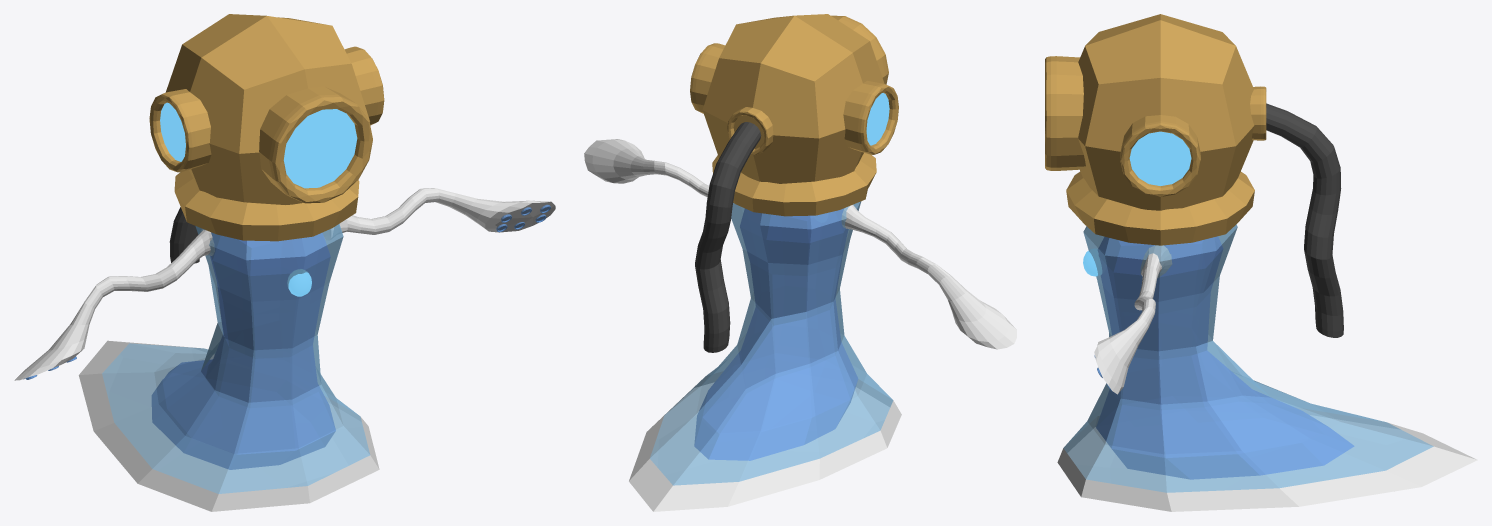
The model's file is water golem.fbx.
The picture shows the model from 3 angles, left to right: view 1: azimuth 30°, elevation 25°; view 2: azimuth 150°, elevation 25°; view 3: azimuth 270°, elevation 25°; orthographic projection. The views are drawn at different scales.
Parts seen in each view (by area): view 1: Body1, Body2, Cube, Cylinder.001, Cylinder.005, Cylinder.008, Cylinder.021, Cylinder.004, Cylinder.002, Cylinder.006; view 2: Body1, Body2, Cube, Cylinder.006, Cylinder.005, Cylinder.021, Cylinder.004, Cylinder.008, Cylinder.002, Cylinder.003, Cylinder.001; view 3: Body1, Body2, Cube, Cylinder.005, Cylinder.006, Cylinder.002, Cylinder.001, Cylinder.008, Cylinder.003.
Part boxes in pixels (x1,y1,x2,y2): Body1: [78, 224, 379, 511]; Body2: [152, 233, 335, 469]; Cube: [165, 14, 369, 204]; Cylinder.001: [259, 86, 372, 203]; Cylinder.005: [174, 170, 359, 241]; Cylinder.008: [323, 188, 555, 240]; Cylinder.021: [14, 230, 214, 380]; Cylinder.004: [149, 89, 211, 172]; Cylinder.002: [344, 46, 384, 125]; Cylinder.006: [169, 207, 199, 263]; Body1: [629, 201, 901, 511]; Body2: [694, 209, 857, 460]; Cube: [702, 14, 884, 183]; Cylinder.006: [695, 122, 761, 352]; Cylinder.005: [712, 153, 876, 216]; Cylinder.021: [842, 205, 1016, 349]; Cylinder.004: [843, 80, 898, 154]; Cylinder.008: [584, 139, 709, 197]; Cylinder.002: [690, 43, 725, 113]; Cylinder.003: [727, 107, 773, 155]; Cylinder.001: [831, 15, 888, 84]; Body1: [1057, 224, 1477, 511]; Body2: [1096, 236, 1353, 479]; Cube: [1078, 14, 1254, 210]; Cylinder.005: [1066, 171, 1254, 245]; Cylinder.006: [1266, 103, 1343, 337]; Cylinder.002: [1120, 115, 1200, 196]; Cylinder.001: [1045, 56, 1085, 170]; Cylinder.008: [1094, 245, 1171, 394]; Cylinder.003: [1250, 86, 1266, 140].
Size of the model in its own units: 1376 by 1165 by 1009.
